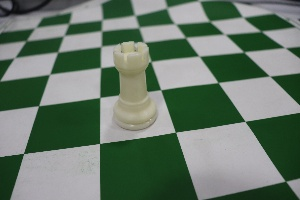white_rook: (98, 24, 167, 133)
